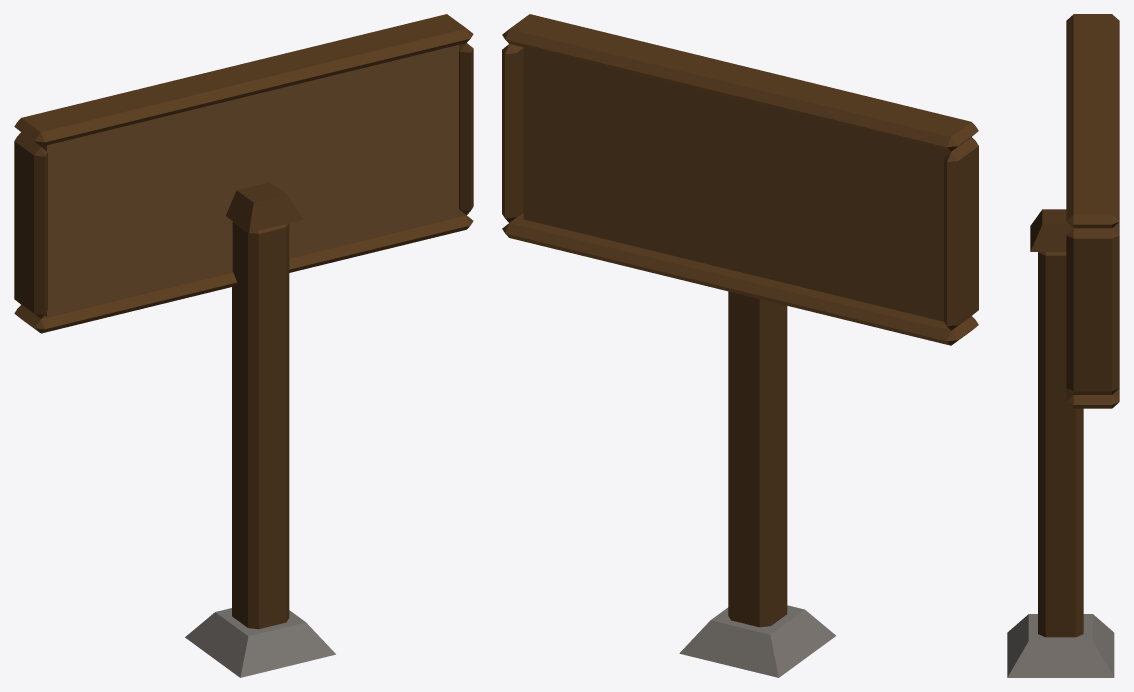
The model's file is WoodSign.glb.
The picture shows the model from 3 angles, left to right: view 1: azimuth 30°, elevation 25°; view 2: azimuth 150°, elevation 25°; view 3: azimuth 270°, elevation 25°; orthographic projection. The views are drawn at different scales.
Parts seen in each view (by area): view 1: Sign, Body; view 2: Sign, Body; view 3: Body.
Part boxes in pixels (left/top/right/bottom): Sign: left=41, top=45, right=458, bottom=316; Body: left=14, top=14, right=473, bottom=677; Sign: left=523, top=47, right=950, bottom=321; Body: left=502, top=14, right=978, bottom=677; Body: left=1007, top=14, right=1119, bottom=677.
Size of the model in its own units: 3.2 by 3.9 by 0.735.
